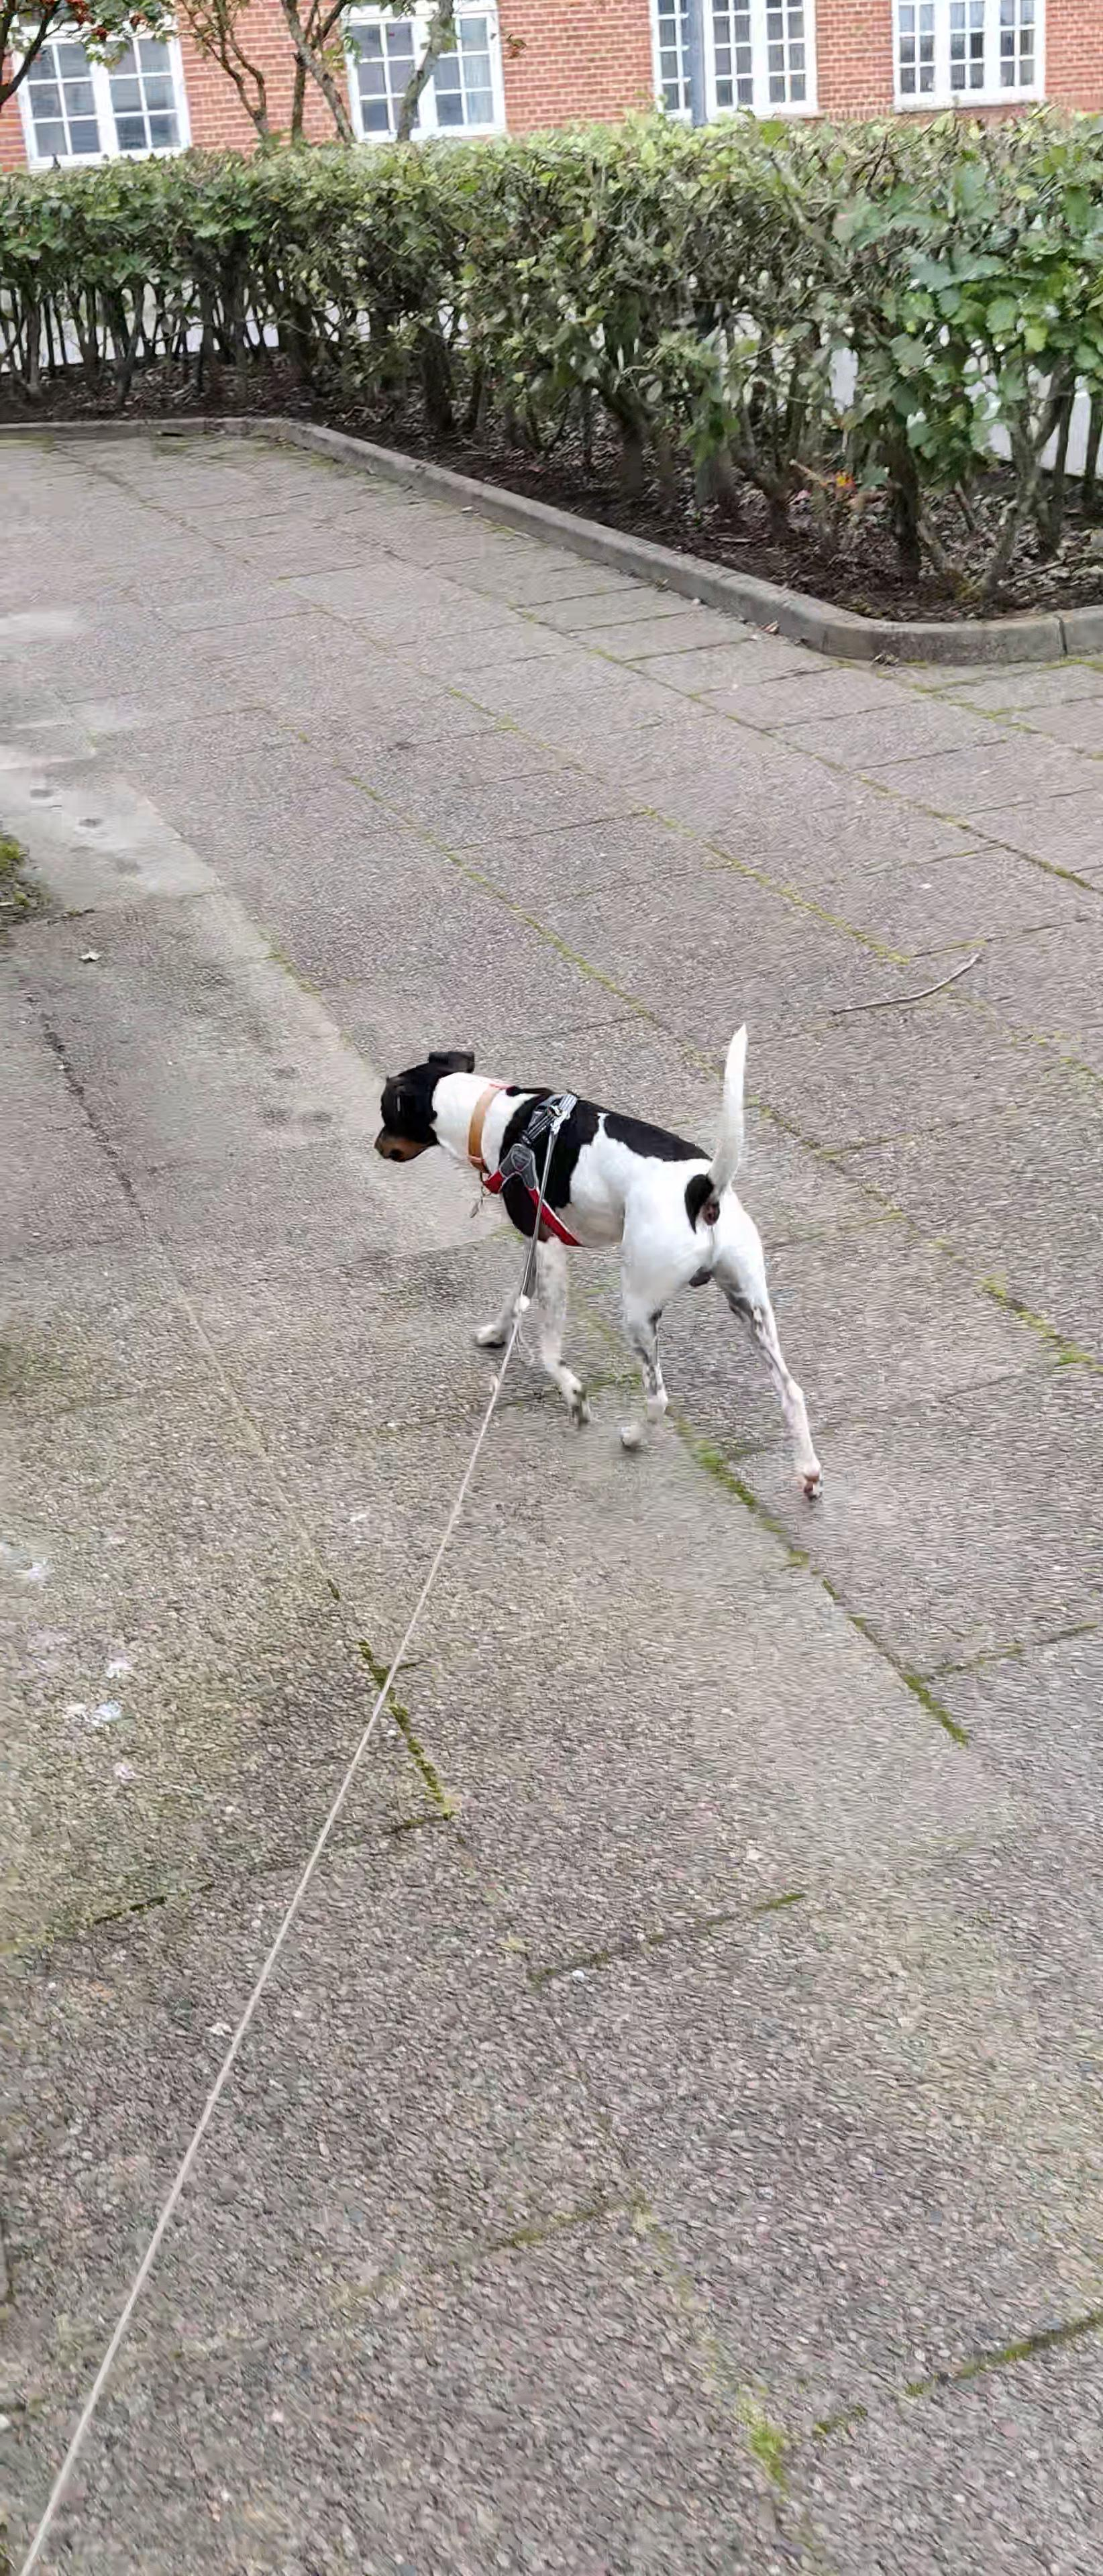Dog: (368, 1019, 830, 1508)
